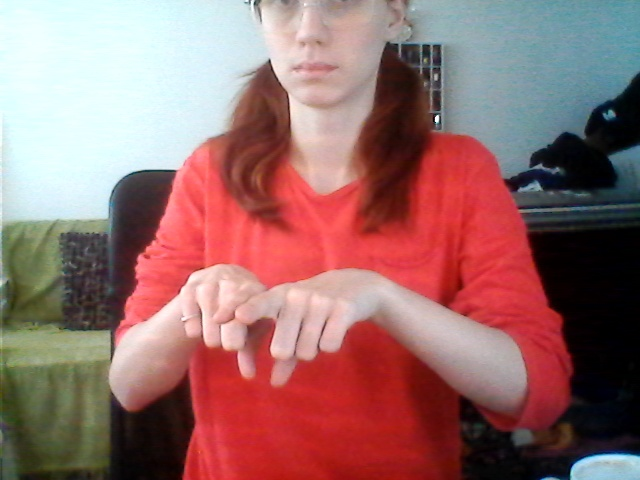sestra: (173, 255, 389, 394)
